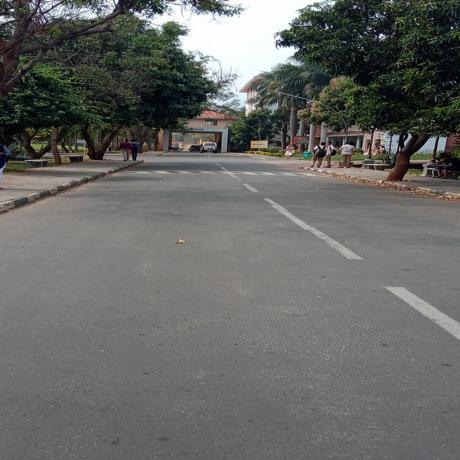Speed Bump: (118, 167, 333, 177)
